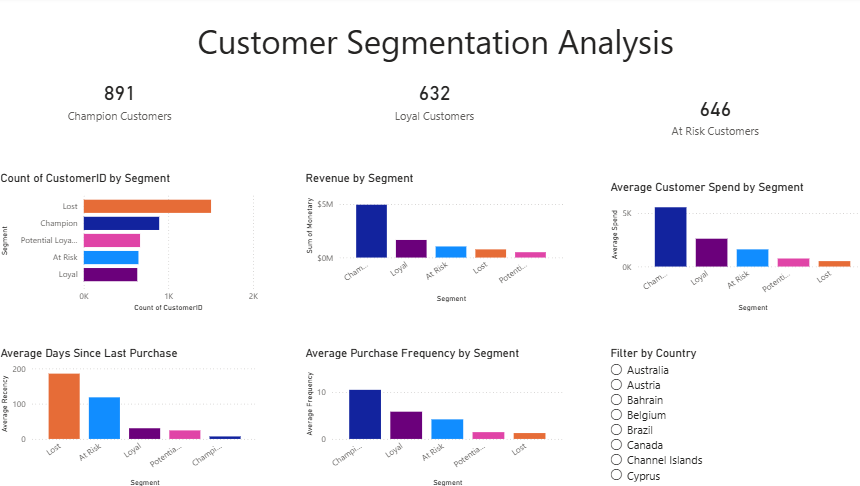

Layout of this report page (visuals, bound fields, positions):
{"tool":"powerbi","page":{"name":"Page 2","canvas":[1280,720],"ordinal":1},"visuals":[{"type":"card","fields":{"Values":["customer_segments.At Risk Customers"]},"box":[910,45,281.7,253.3],"z":0},{"type":"card","fields":{"Values":["customer_segments.Loyal Customers"]},"box":[501.7,53.3,276.7,193.3],"z":1000},{"type":"card","fields":{"Values":["customer_segments.Champion Customers"]},"box":[40,75,280,150],"z":2000},{"type":"textbox","box":[288.3,26.7,736.7,95],"z":3000},{"type":"clusteredBarChart","title":"Count of CustomerID by Segment","fields":{"Category":["customer_segments.Segment"],"Y":["CountNonNull(customer_segments.CustomerID)"]},"box":[0,255,386.7,210],"z":4000},{"type":"clusteredColumnChart","title":"Revenue by Segment","fields":{"Category":["customer_segments.Segment"],"Y":["Sum(customer_segments.Monetary)"]},"box":[446.7,255,386.7,196.7],"z":5000},{"type":"clusteredColumnChart","title":"Average Customer Spend by Segment","fields":{"Category":["customer_segments.Segment"],"Y":["customer_segments.Average Spend"]},"box":[893.3,268.3,386.7,196.7],"z":6000},{"type":"clusteredColumnChart","title":"Average Days Since Last Purchase","fields":{"Category":["customer_segments.Segment"],"Y":["customer_segments.Average Recency"]},"box":[0,510,386.7,210],"z":7000},{"type":"clusteredColumnChart","title":"Average Purchase Frequency by Segment","fields":{"Category":["customer_segments.Segment"],"Y":["customer_segments.Average Frequency"]},"box":[447,510,387,210],"z":8000},{"type":"listSlicer","title":"Filter by Country","fields":{"Values":["retail_transactions_clean.Country"]},"box":[893.3,510,386.7,210],"z":9000}]}

Visuals, with their boxes in screenshot pixels (x1, y1, x2, y2), scaled from the page's 1280x720 canvas onto the 860x486 screenshot:
card - customer_segments.At Risk Customers: bbox(611, 30, 801, 201)
card - customer_segments.Loyal Customers: bbox(337, 36, 523, 166)
card - customer_segments.Champion Customers: bbox(27, 51, 215, 152)
textbox: bbox(194, 18, 689, 82)
"Count of CustomerID by Segment" clusteredBarChart: bbox(0, 172, 260, 314)
"Revenue by Segment" clusteredColumnChart: bbox(300, 172, 560, 305)
"Average Customer Spend by Segment" clusteredColumnChart: bbox(600, 181, 859, 314)
"Average Days Since Last Purchase" clusteredColumnChart: bbox(0, 344, 260, 485)
"Average Purchase Frequency by Segment" clusteredColumnChart: bbox(300, 344, 560, 485)
"Filter by Country" listSlicer: bbox(600, 344, 859, 485)
